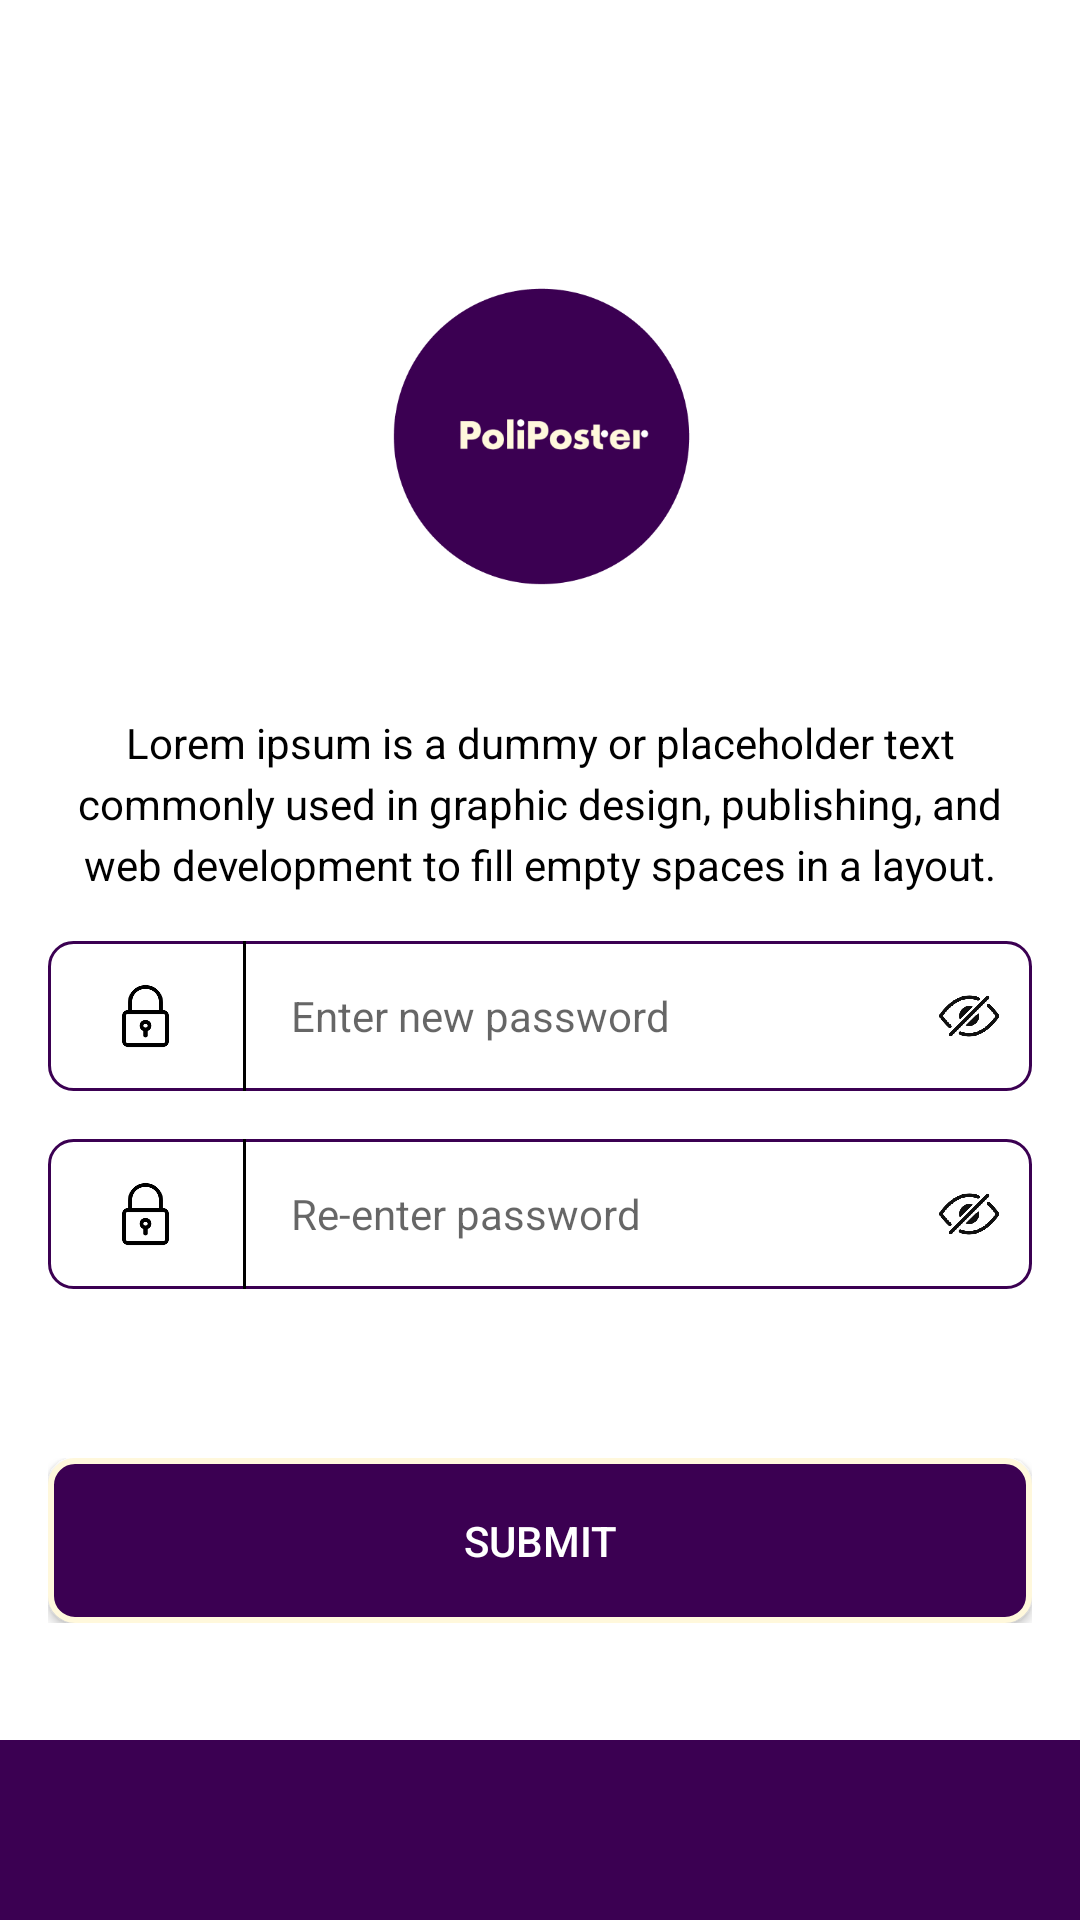

Point at icon controls on the screen. Image size 1080px×1920px, points as [x,y].
closecyes: [969,1016], [969,1214]
